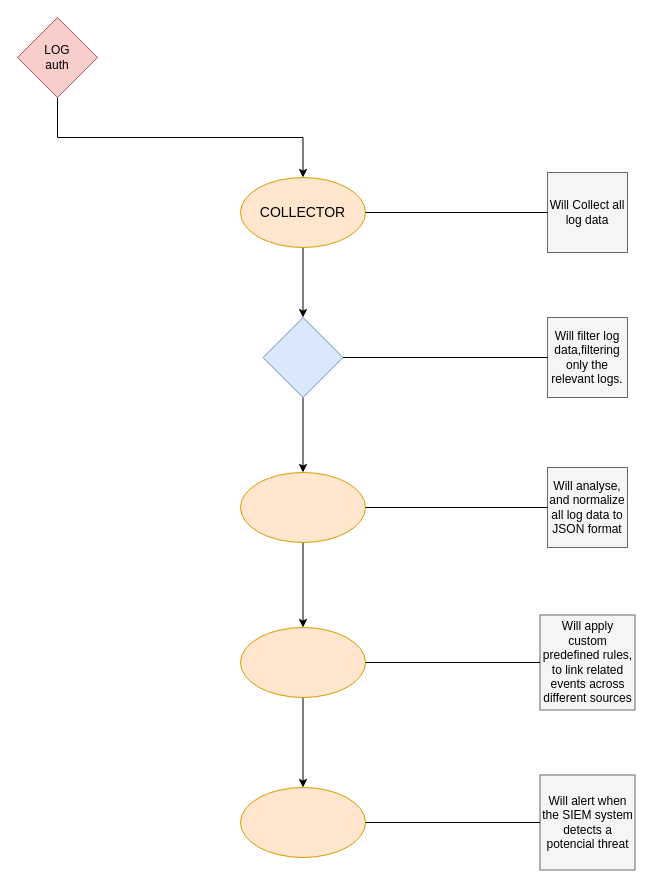
This 653x888 diagram has some shape labels left out. Here are the shapes that lost their labels. From the top down, the centre of each, then its label:
At [302,357]: "Filter".
At [303,507]: "NORMALIZATION".
At [303,662]: "CORRELATION".
At [303,822]: "ALERT".
